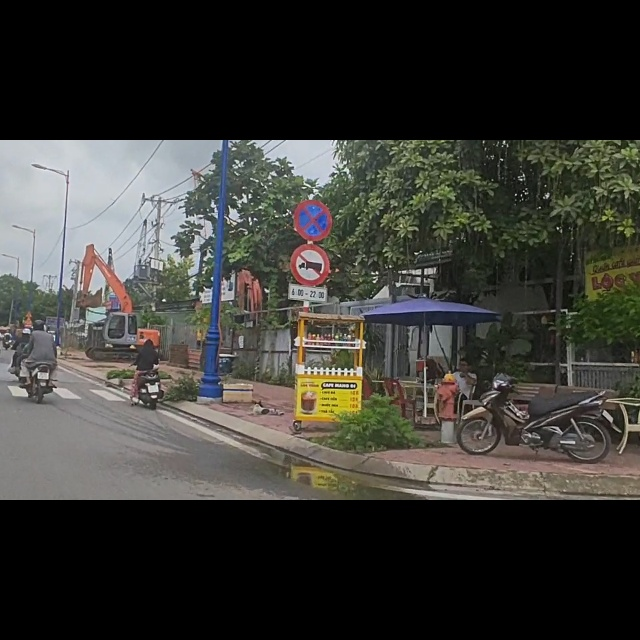bien_nguy_hiem: (293, 105, 335, 181), (291, 185, 331, 261)
